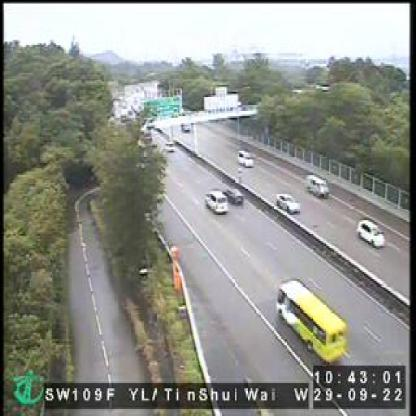Car: (355, 217, 382, 251), (303, 170, 330, 203), (201, 189, 229, 215), (272, 192, 300, 214), (222, 184, 243, 208), (235, 149, 255, 166), (164, 137, 174, 154)
Truck: (272, 279, 348, 364)
